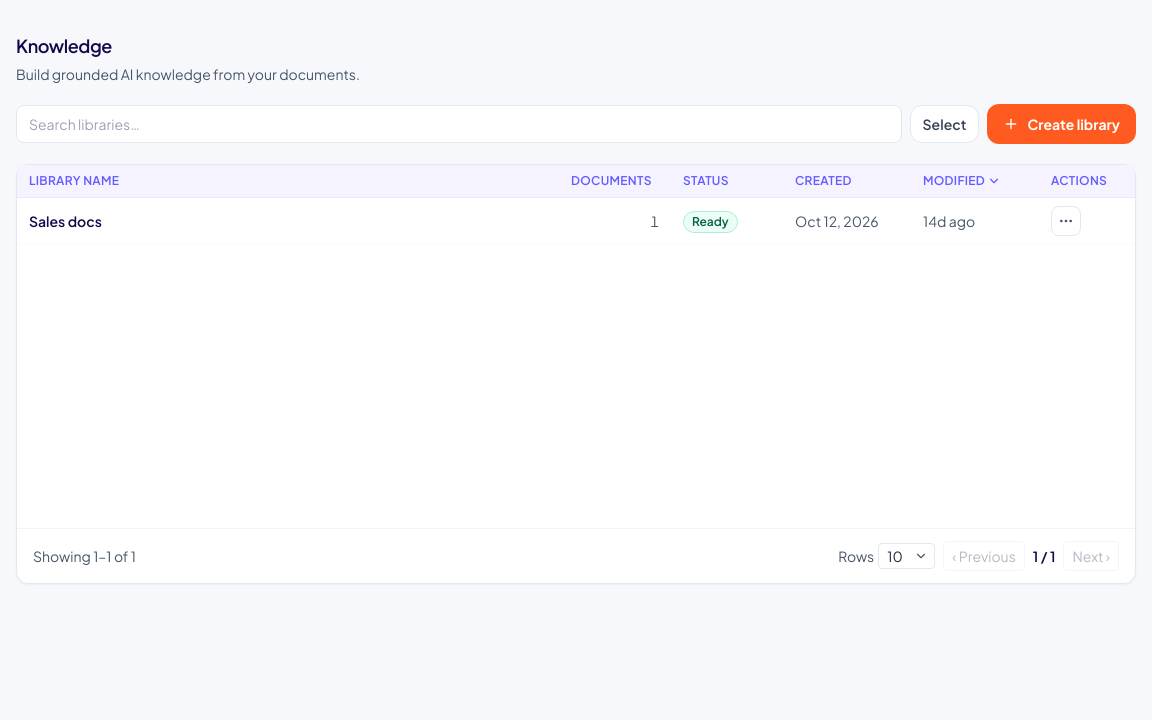
it: Knowledge page v2.1 › renders library table without default checkboxes and opens detail via name
Expected: the button with aria-label "Select libraries" is shown, x1=910 y1=105 x2=979 y2=143
Click the button "Sales docs": [65, 221] box x1=29 y1=211 x2=547 y2=231
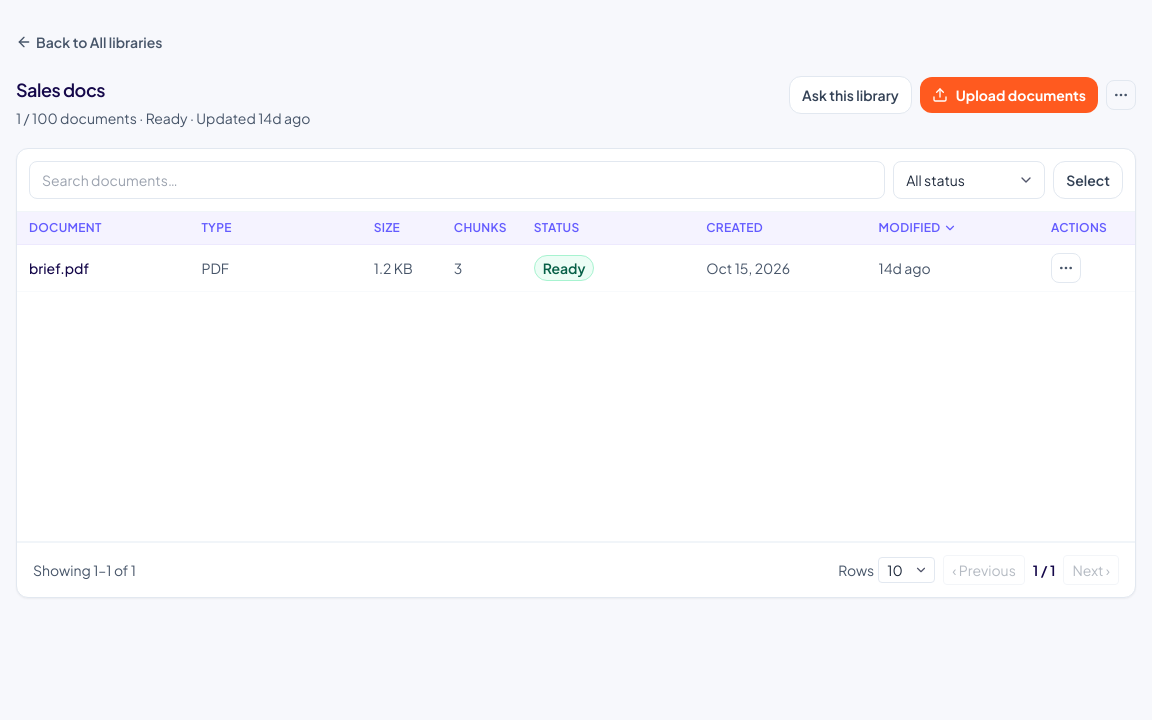
Expected: the text "Showing 1–1 of 1" is shown, x1=33 y1=560 x2=136 y2=580
Now the text "brief.pdf" is shown, box x1=17 y1=244 x2=189 y2=292
Now the button "Ask this library" is shown, box x1=789 y1=76 x2=912 y2=114
